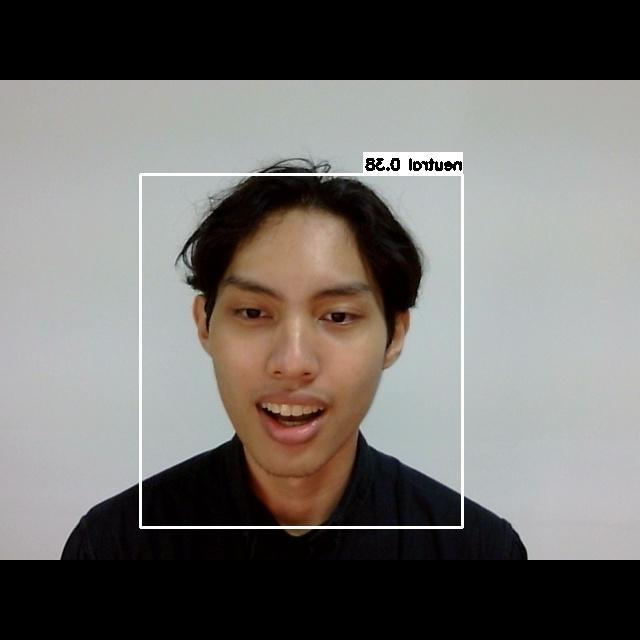Surprised: (206, 247, 399, 461)
